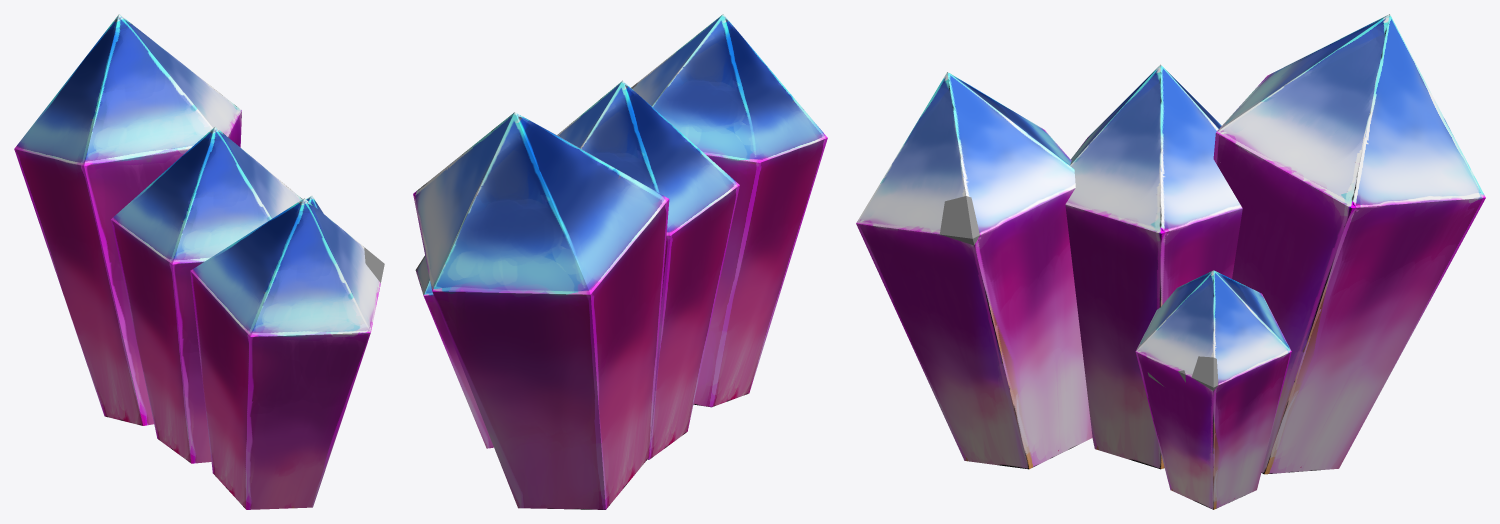
File: 可放UV的碎片.FBX
3 renders of one model, left to right at view 1: azimuth 30°, elevation 25°; view 2: azimuth 150°, elevation 25°; view 3: azimuth 270°, elevation 25°, orthographic. The views are drawn at different scales.
Visible parts, largest first — view 1: Cylinder002_frag_025, Cylinder002_frag_066, Cylinder003_frag_025, Cylinder002_frag_035, Cylinder001_frag_025, Cylinder003_frag_006, Cylinder003_frag_023, Cylinder003_frag_015, Cylinder002_frag_047, Cylinder003_frag_049, Cylinder003_frag_035, Cylinder003_frag_047 (+48 smaller); view 2: Cylinder002_frag_047, Cylinder002_frag_021, Cylinder003_frag_047, Cylinder002_frag_044, Cylinder002_frag_056, Cylinder002_frag_067, Cylinder002_frag_025, Cylinder003_frag_021, Cylinder002_frag_020, Cylinder002_frag_007, Cylinder002_frag_046, Cylinder001_frag_044 (+51 smaller); view 3: Cylinder002_frag_028, Cylinder002_frag_043, Cylinder002_frag_012, Cylinder003_frag_028, Cylinder001_frag_028, Cylinder003_frag_043, Cylinder002_frag_011, Cylinder003_frag_009, Cylinder003_frag_017, Cylinder001_frag_017, Cylinder002_frag_018, Cylinder001_frag_043 (+74 smaller).
Part boxes in pixels (left/top/right/bottom): Cylinder002_frag_025: left=58, top=69, right=127, bottom=177; Cylinder002_frag_066: left=140, top=78, right=214, bottom=161; Cylinder003_frag_025: left=230, top=248, right=288, bottom=344; Cylinder002_frag_035: left=37, top=144, right=137, bottom=223; Cylinder001_frag_025: left=150, top=176, right=209, bottom=273; Cylinder003_frag_006: left=287, top=246, right=341, bottom=340; Cylinder003_frag_023: left=303, top=322, right=367, bottom=402; Cylinder003_frag_015: left=278, top=339, right=330, bottom=414; Cylinder002_frag_047: left=14, top=96, right=81, bottom=183; Cylinder003_frag_049: left=262, top=443, right=330, bottom=502; Cylinder003_frag_035: left=204, top=295, right=294, bottom=364; Cylinder003_frag_047: left=190, top=244, right=258, bottom=306; Cylinder002_frag_047: left=511, top=185, right=623, bottom=318; Cylinder002_frag_021: left=546, top=303, right=631, bottom=395; Cylinder003_frag_047: left=699, top=90, right=788, bottom=189; Cylinder002_frag_044: left=499, top=144, right=583, bottom=231; Cylinder002_frag_056: left=471, top=244, right=566, bottom=319; Cylinder002_frag_067: left=443, top=167, right=513, bottom=259; Cylinder002_frag_025: left=571, top=144, right=669, bottom=230; Cylinder003_frag_021: left=721, top=188, right=774, bottom=279; Cylinder002_frag_020: left=468, top=319, right=550, bottom=384; Cylinder002_frag_007: left=486, top=112, right=570, bottom=180; Cylinder002_frag_046: left=491, top=378, right=581, bottom=434; Cylinder001_frag_044: left=603, top=119, right=672, bottom=178; Cylinder002_frag_028: left=1311, top=51, right=1400, bottom=167; Cylinder002_frag_043: left=1325, top=182, right=1427, bottom=294; Cylinder002_frag_012: left=1214, top=131, right=1311, bottom=223; Cylinder003_frag_028: left=912, top=111, right=1009, bottom=203; Cylinder001_frag_028: left=1110, top=101, right=1192, bottom=192; Cylinder003_frag_043: left=974, top=187, right=1054, bottom=300; Cylinder002_frag_011: left=1295, top=147, right=1395, bottom=250; Cylinder003_frag_009: left=929, top=319, right=1029, bottom=398; Cylinder003_frag_017: left=942, top=379, right=1031, bottom=467; Cylinder001_frag_017: left=1087, top=372, right=1153, bottom=465; Cylinder002_frag_018: left=1248, top=220, right=1330, bottom=293; Cylinder001_frag_043: left=1152, top=203, right=1234, bottom=291.
Size of the model in its own units: 2061 by 2953 by 3796.
